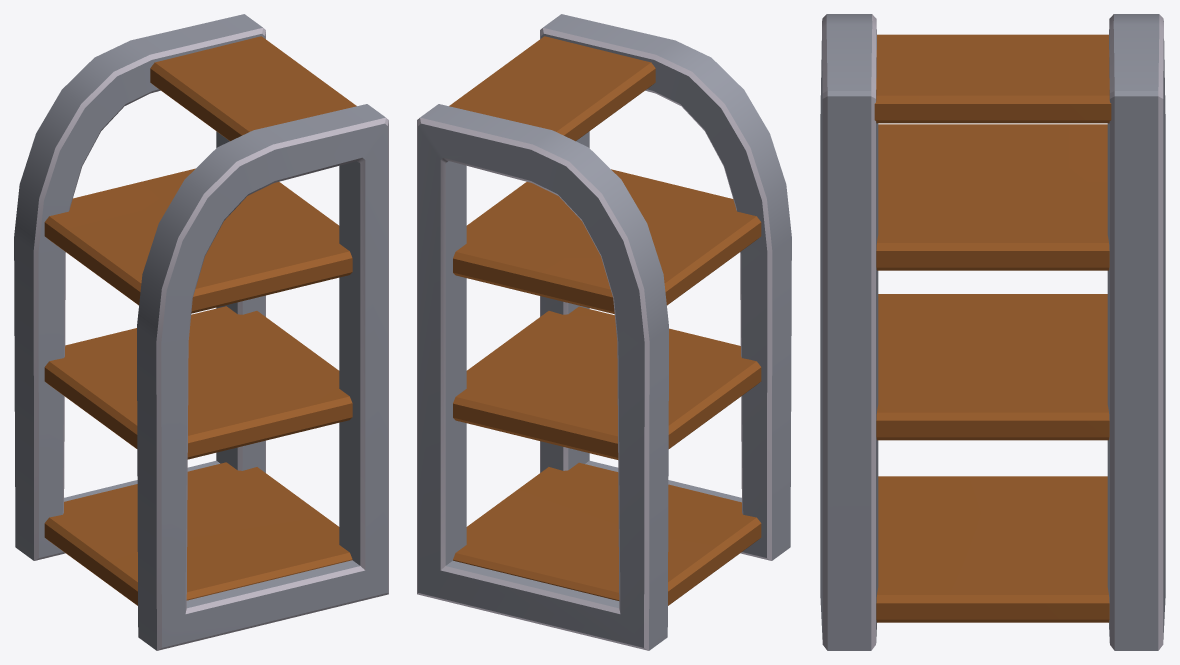
Rendered from StandShelf_2_B.glb.
3 renders of one model, left to right at view 1: azimuth 30°, elevation 25°; view 2: azimuth 150°, elevation 25°; view 3: azimuth 270°, elevation 25°, orthographic. The views are drawn at different scales.
Parts seen in each view (by area): view 1: StandShelf_2_B; view 2: StandShelf_2_B; view 3: StandShelf_2_B.
Boxes of the visible parts, x1,y1,x2,y2 form: StandShelf_2_B: (14, 14, 388, 650); StandShelf_2_B: (417, 14, 791, 650); StandShelf_2_B: (820, 14, 1165, 650).
Size of the model in its own units: 0.5231 by 1.03 by 0.5738.
Materials: 2 (2 with a texture image).
